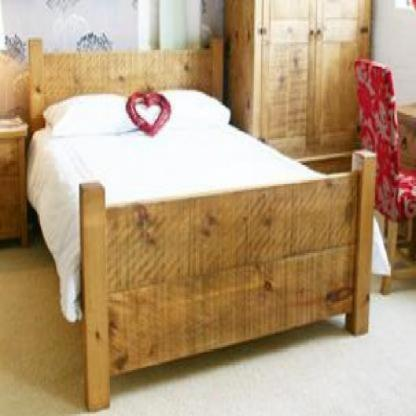Bed: (25, 32, 381, 416)
